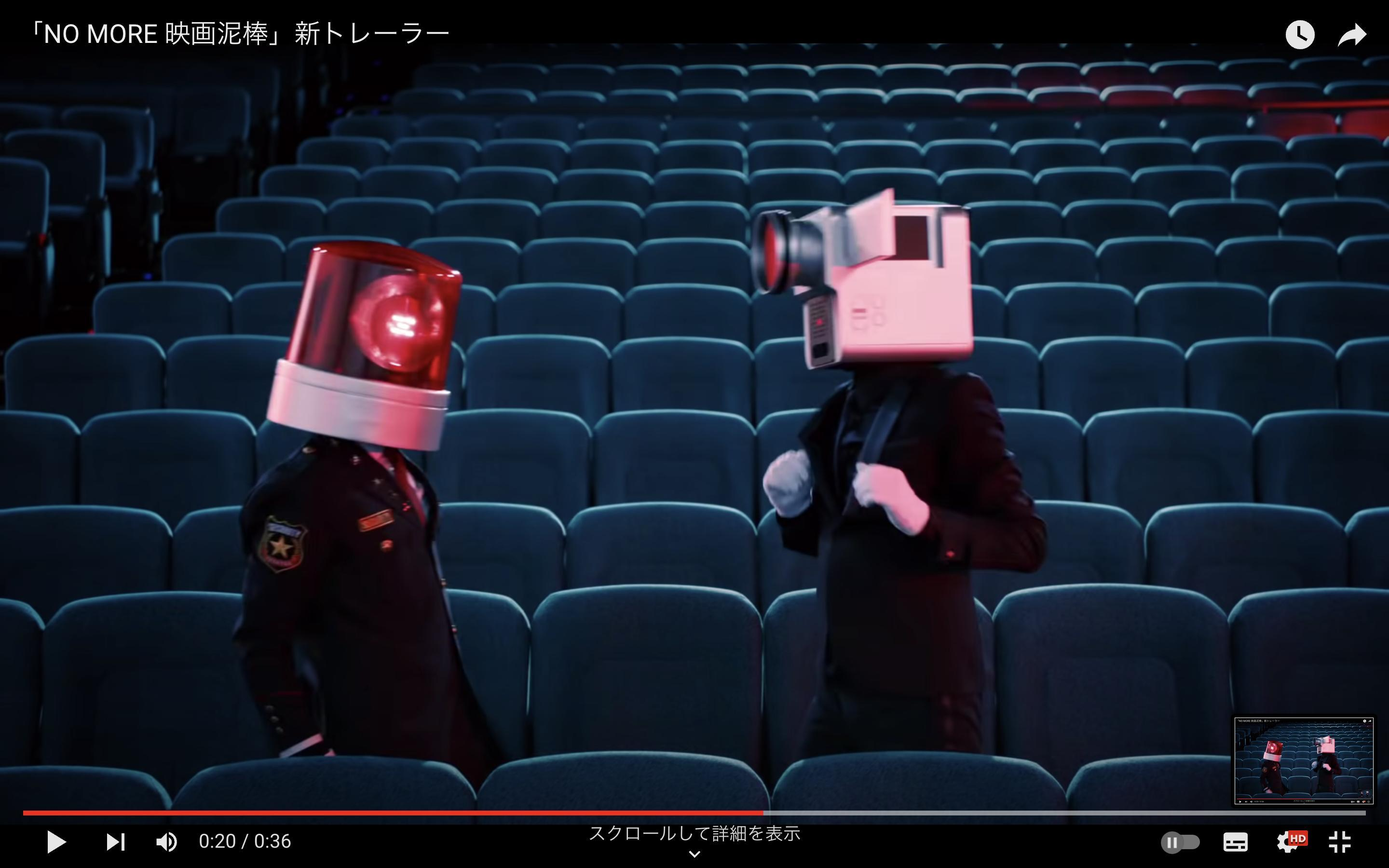no more kid: (746, 183, 995, 376)
